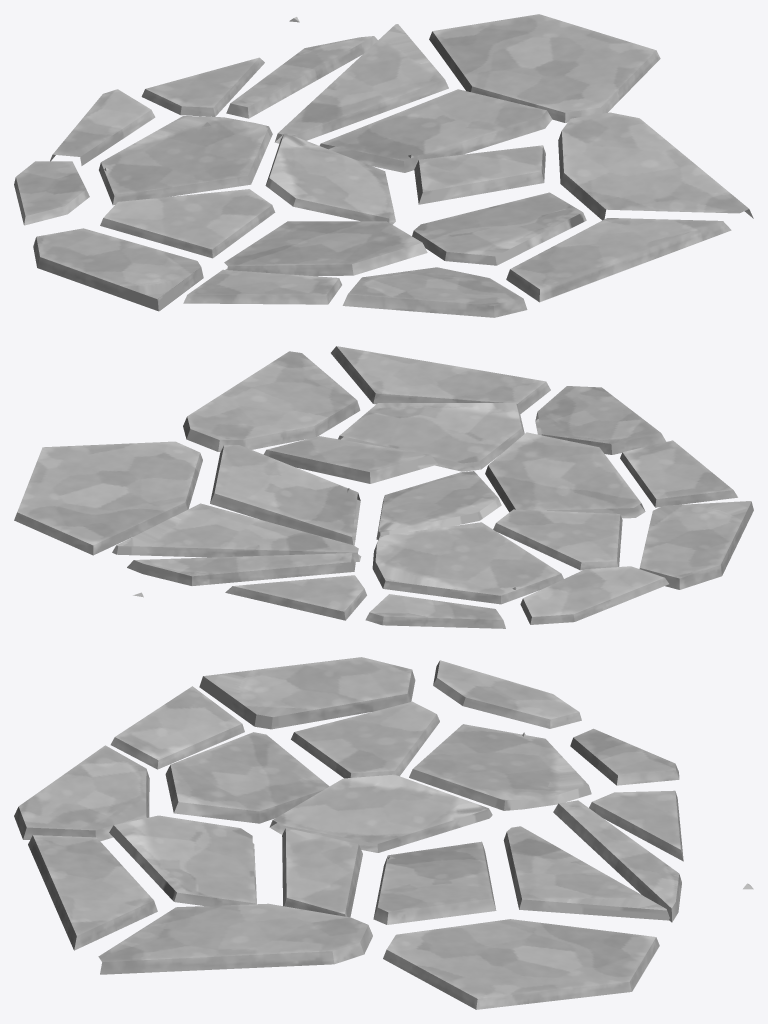
The model's file is sculpted_shards_02.glb.
3 renders of one model, top to bottom at view 1: azimuth 30°, elevation 25°; view 2: azimuth 150°, elevation 25°; view 3: azimuth 270°, elevation 25°, orthographic. The views are drawn at different scales.
Parts seen in each view (by area): view 1: sculpted_shards_02; view 2: sculpted_shards_02; view 3: sculpted_shards_02.
Part boxes in pixels (bbox=[...]): sculpted_shards_02: bbox=[14, 14, 753, 317]; sculpted_shards_02: bbox=[14, 346, 753, 628]; sculpted_shards_02: bbox=[14, 657, 753, 1009].
Size of the model in its own units: 2.18 by 0.0998 by 1.96.
Materials: 1 (1 with a texture image).
